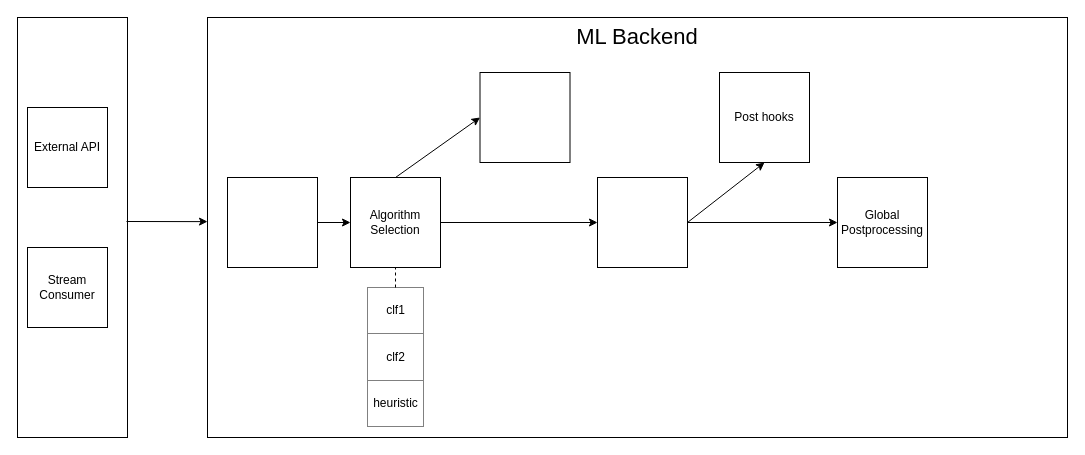
This 1085x455 diagram has some shape labels left out. The shapes that lost their labels are listed below. From the top down, each one's box as (x1, y1, x2, y2) in pixels, then its label:
(479, 72, 570, 162): Pre hooks
(226, 176, 318, 268): Global Preprocessing
(596, 176, 688, 268): Prediction execution
